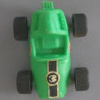carro: (14, 3, 89, 100)
